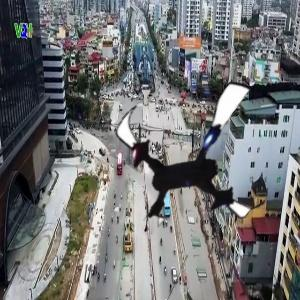drone: (109, 68, 284, 243)
